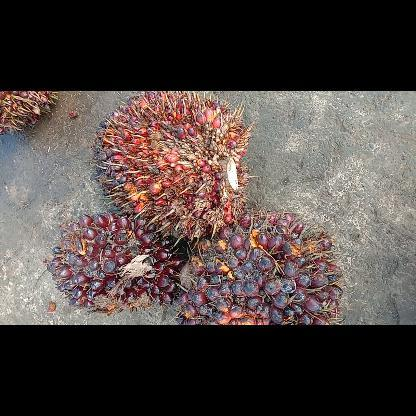Kurang masak: (178, 208, 342, 324), (45, 212, 179, 310)
TBS masak: (94, 90, 252, 240)
